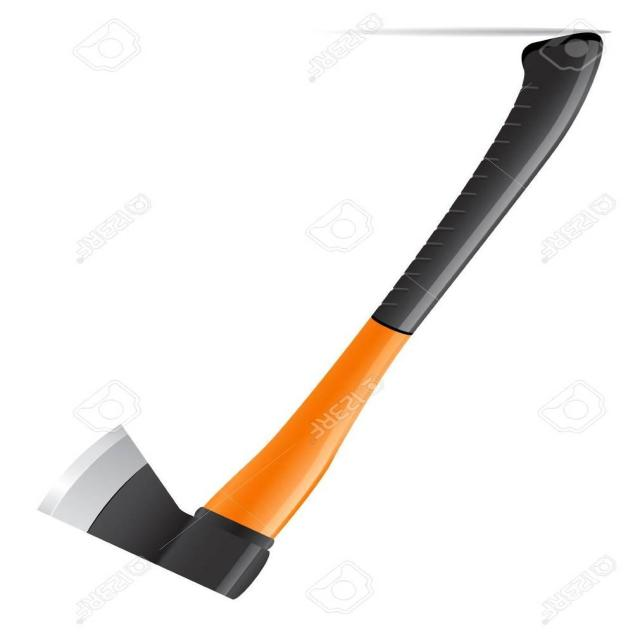Kapak: (72, 35, 599, 599)
